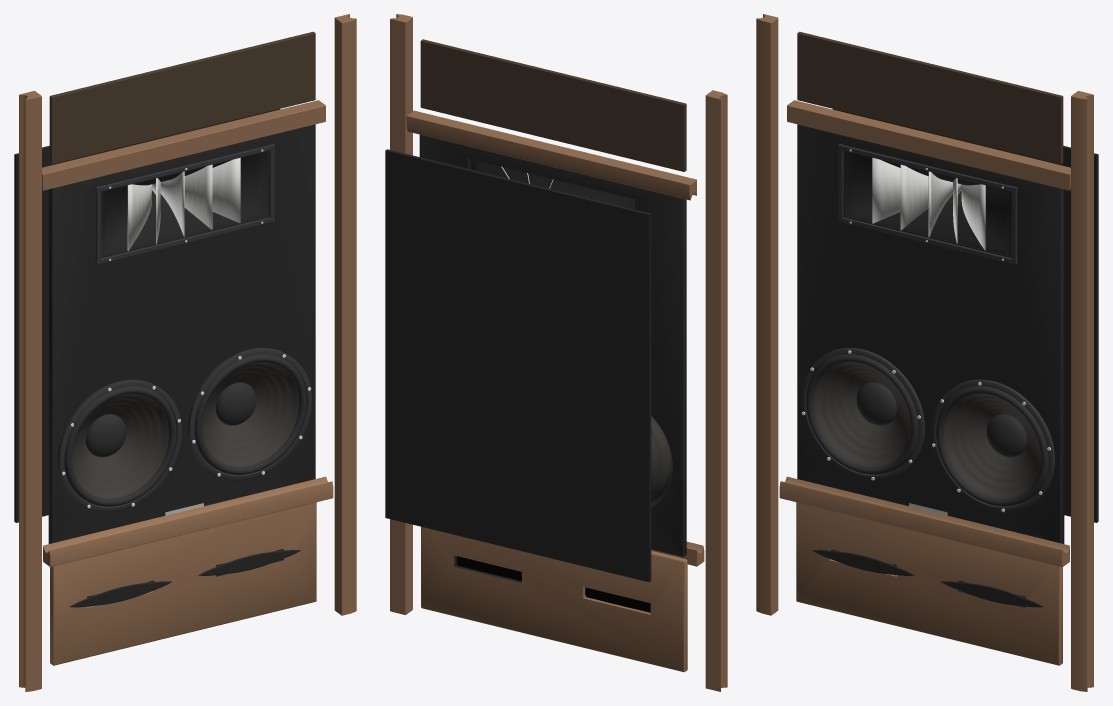
The model's file is main_monitor.glb.
The picture shows the model from 3 angles, left to right: view 1: azimuth 30°, elevation 25°; view 2: azimuth 150°, elevation 25°; view 3: azimuth 330°, elevation 25°; orthographic projection.
Visible parts, largest first — view 1: Baffle, LowerPanel, Cloth, Stile, Stile.001, Rail, Rail.001, Cone.001, Cone, Horn, BackBox, Surround (+13 smaller); view 2: BackBox, LowerPanel, Cloth, Baffle, Stile, Rail.001, Stile.001, Horn, Cone, PortHole, PortHole.001; view 3: Baffle, LowerPanel, Cloth, Stile.001, Stile, Rail, Rail.001, Cone, Cone.001, Horn, BackBox, Surround.001 (+13 smaller).
Part boxes in pixels (x1,y1,x2,y2): Baffle: (48,124,315,543); LowerPanel: (50,502,316,665); Cloth: (49,31,315,164); Stile: (19,91,41,691); Stile.001: (334,14,356,615); Rail: (43,476,333,566); Rail.001: (42,100,325,190); Cone.001: (202,362,299,466); Cone: (72,394,169,498); Horn: (101,151,267,256); BackBox: (14,109,280,522); Surround: (64,386,176,506); BackBox: (385,149,651,582); LowerPanel: (421,526,687,672); Cloth: (420,39,686,171); Baffle: (419,134,686,556); Stile: (705,90,727,691); Rail.001: (406,110,696,200); Stile.001: (390,14,412,614); Horn: (471,159,635,209); Cone: (651,417,670,497); PortHole: (586,587,650,612); PortHole.001: (457,556,521,581); Baffle: (797,124,1064,543); LowerPanel: (796,502,1062,665); Cloth: (797,31,1063,164); Stile.001: (1071,91,1093,691); Stile: (756,14,778,615); Rail: (779,476,1069,566); Rail.001: (787,100,1070,190); Cone: (813,362,910,466); Cone.001: (943,394,1040,498); Horn: (845,151,1011,256); BackBox: (832,109,1098,522); Surround.001: (936,386,1048,506).
Bounding box in the file's own units: 1.03 × 1.76 × 0.245.
